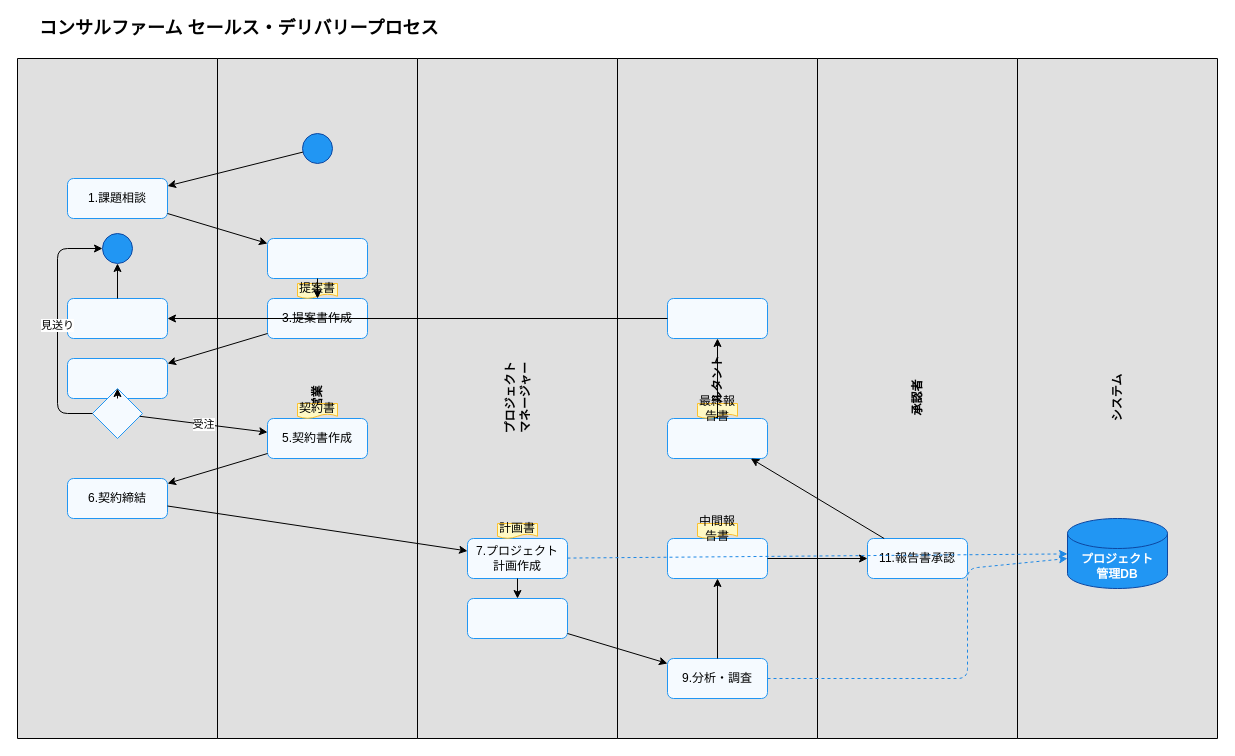
This 1235x756 diagram has some shape labels left out. Here are the shapes that lost their labels. From the top down, the centre of each, then its label:
At (317,148): "開始".
At (117,248): "終了".
At (317,258): "2.ヒアリング".
At (117,318): "14.成果物確認".
At (717,318): "13.成果物納品".
At (117,378): "4.提案書確認".
At (117,413): "受注判断".
At (717,438): "12.最終報告書 作成".
At (717,558): "10.中間報告".
At (517,618): "8.チーム編成".
